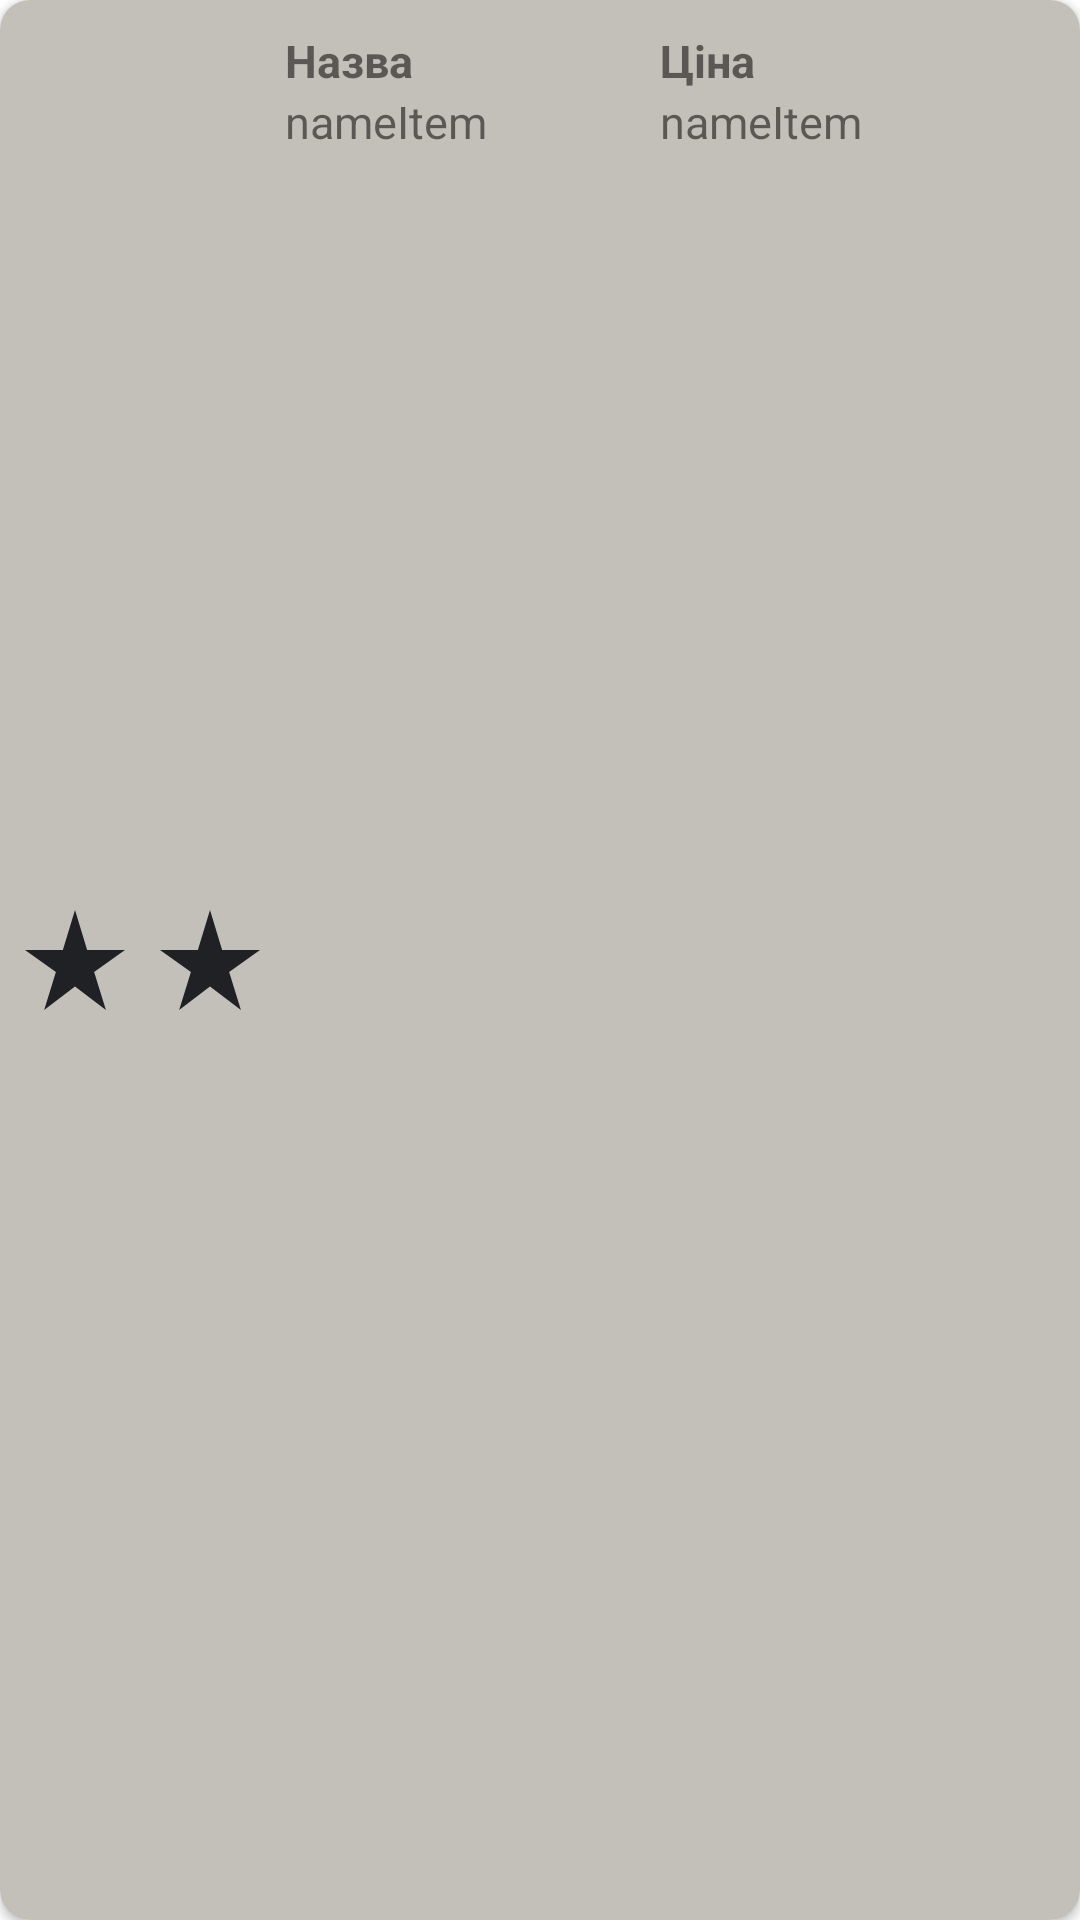

Icon bounding boxes for this 1080px×1920px phone screenshot, format region(x1, y1, x2, y2):
star mage: region(25, 911, 125, 1010), region(160, 911, 260, 1010)
